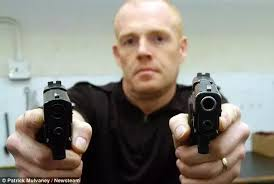gun: (24, 79, 83, 178), (186, 72, 241, 178)
